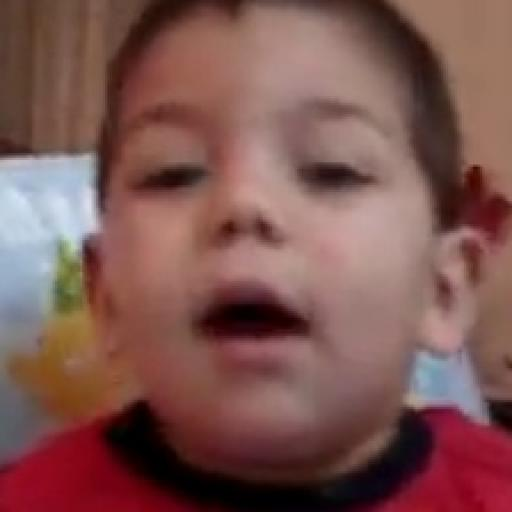Autism: (76, 0, 442, 495)
